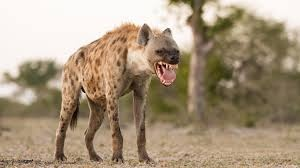hyna: (50, 19, 181, 165)
